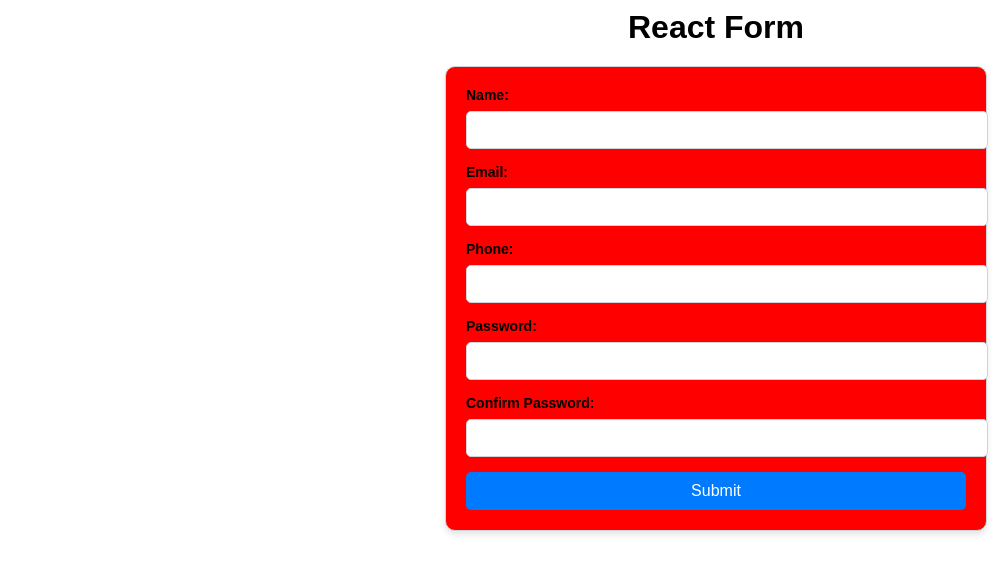
Test: Form Validation Tests › should submit the form successfully with valid inputs
Type "John Doe" into the field labelled "Name:" at (727, 130), box top-left (466, 111), bottom-right (988, 149)
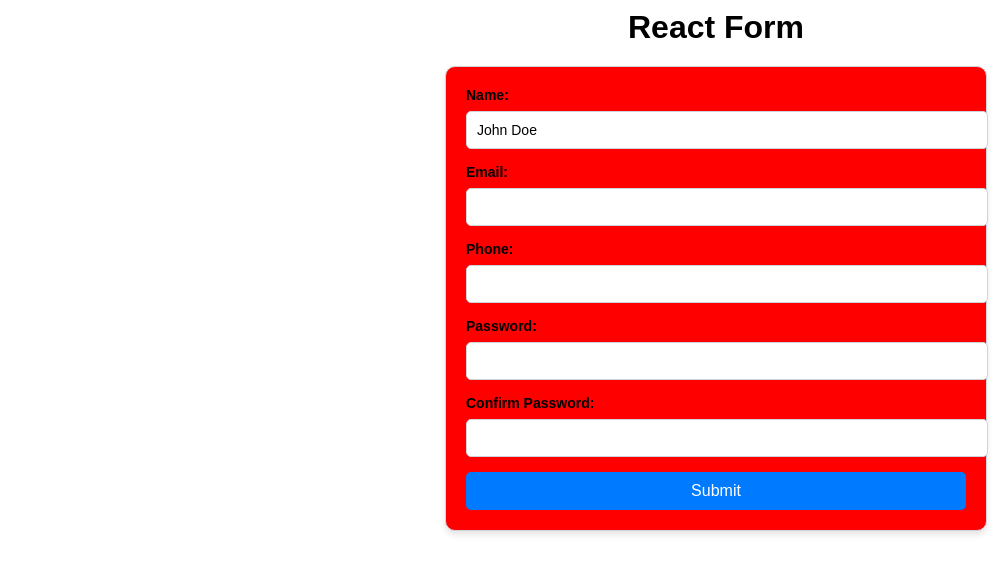
Type "john.doe@example.com" into the field labelled "Email:" at (727, 207), box top-left (466, 188), bottom-right (988, 226)
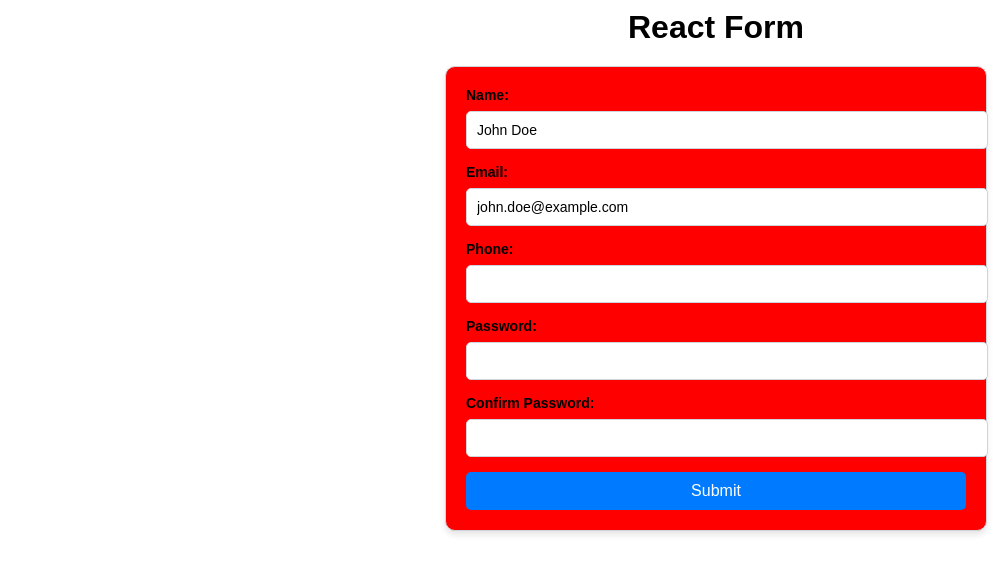
Type "1234567890" into the field labelled "Phone:" at (727, 284), box top-left (466, 265), bottom-right (988, 303)
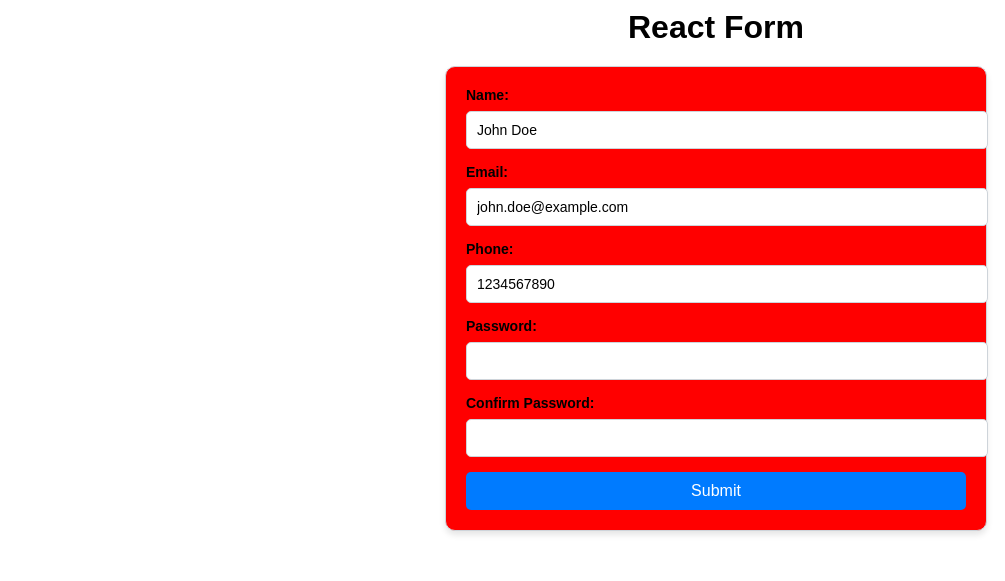
Type "password123" into the password field labelled "Password:" at (727, 361), box top-left (466, 342), bottom-right (988, 380)
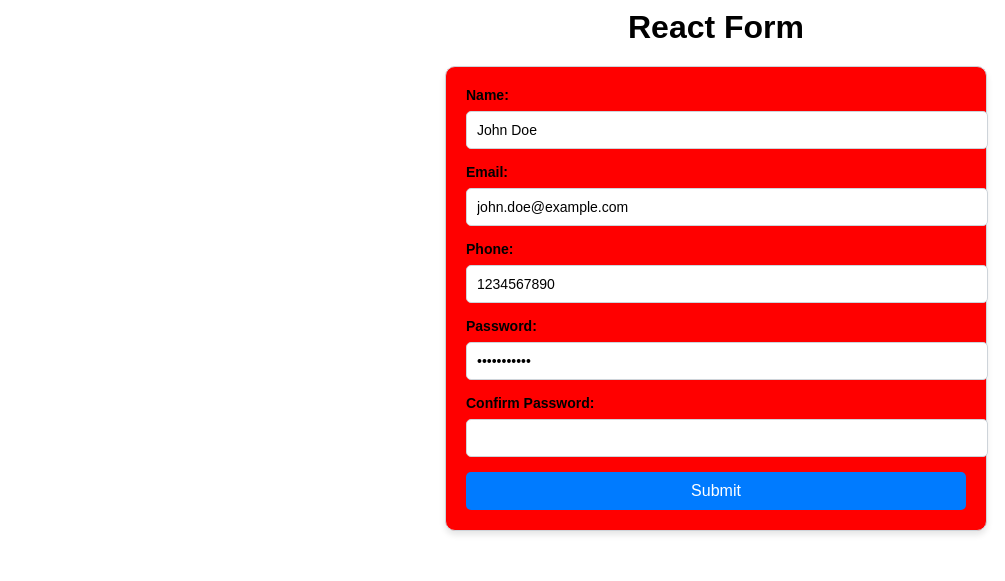
Type "password123" into the password field labelled "Confirm Password:" at (727, 438), box top-left (466, 419), bottom-right (988, 457)
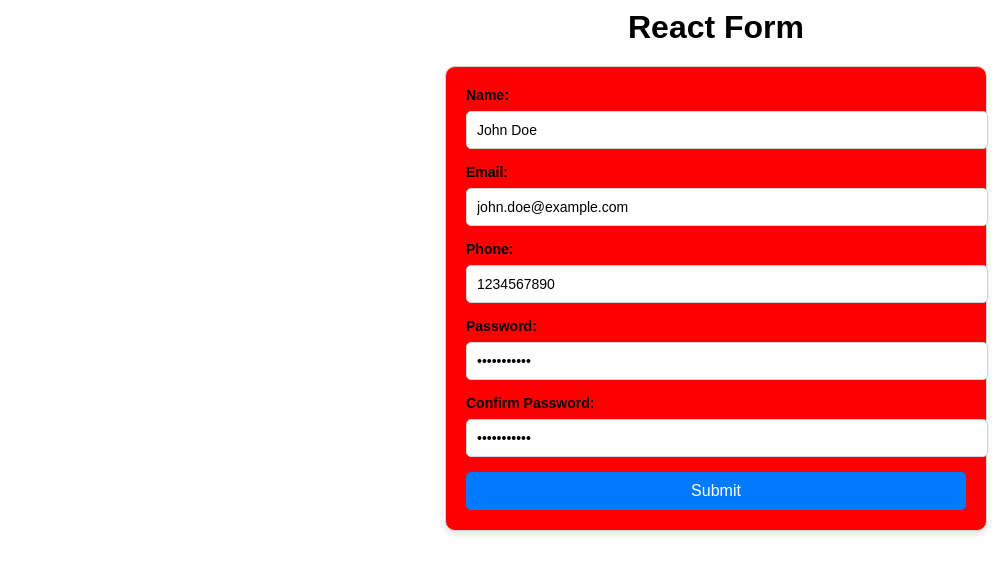
Click the button "Submit" at (716, 491), box top-left (466, 472), bottom-right (966, 510)
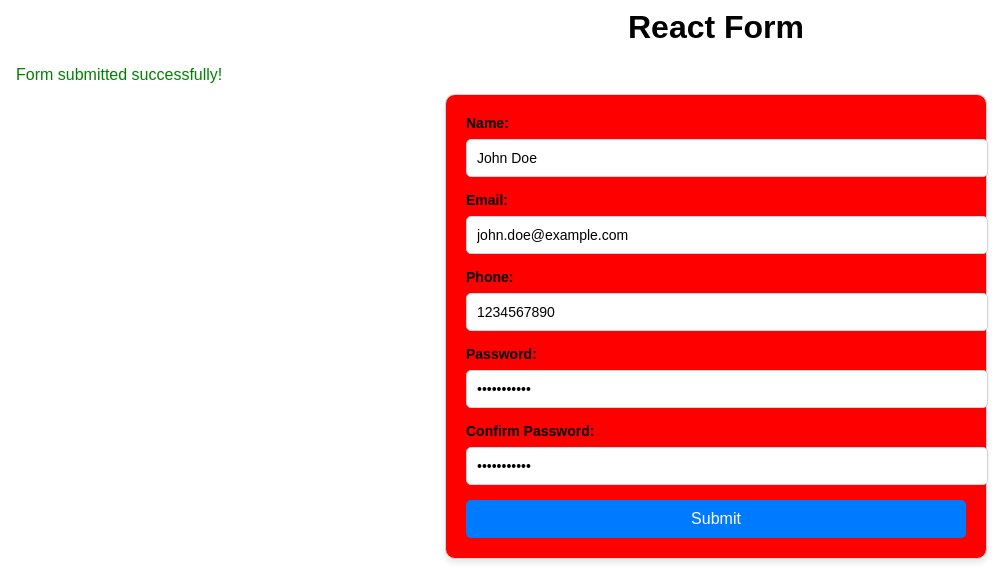
Result: the text "Form submitted successfully!" is shown at top-left (16, 66), bottom-right (222, 83)
